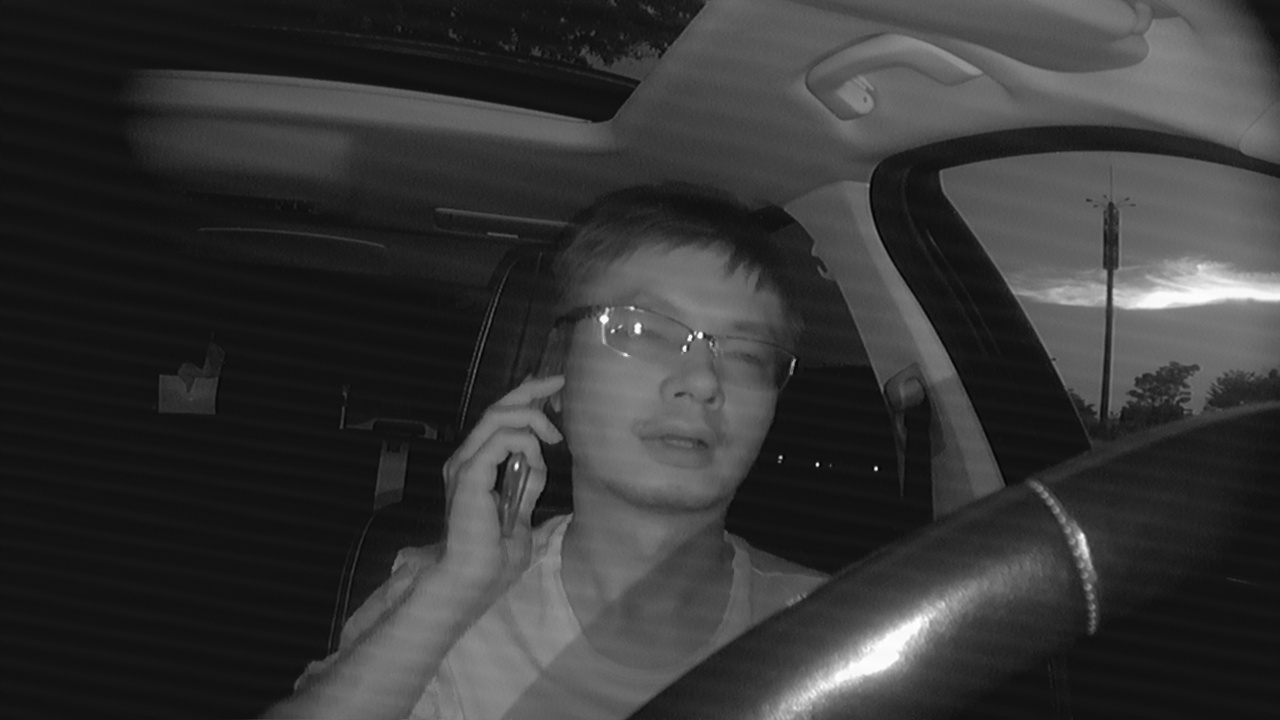hand: (439, 377, 564, 580)
